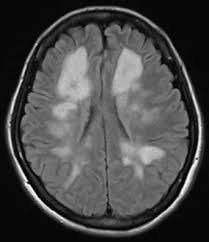Normal_Brain: (4, 1, 209, 242)
